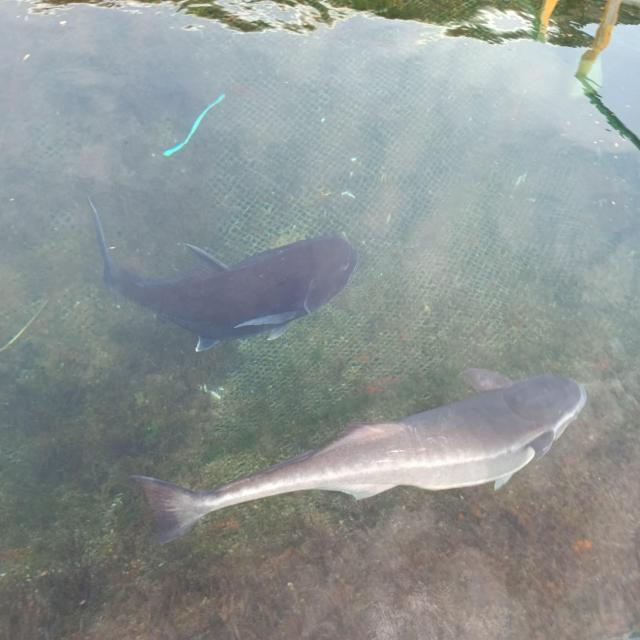ikan: (130, 366, 588, 545), (86, 193, 359, 353)
